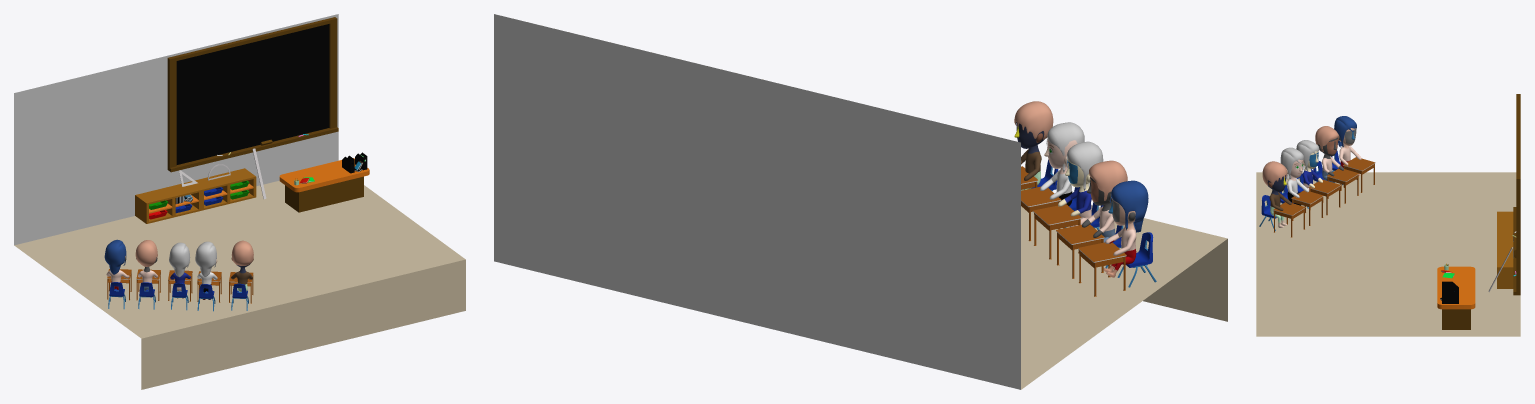
File: Class Room -  Grade 4 - 6 - Updated.fbx
3 renders of one model, left to right at view 1: azimuth 30°, elevation 25°; view 2: azimuth 150°, elevation 25°; view 3: azimuth 270°, elevation 25°, orthographic. The views are drawn at different scales.
Parts seen in each view (by area): view 1: Grade 1 ClassRoom.016; view 2: Grade 1 ClassRoom.016; view 3: Grade 1 ClassRoom.016.
Part boxes in pixels (<box>): Grade 1 ClassRoom.016: <box>14,14,465,389</box>; Grade 1 ClassRoom.016: <box>494,14,1227,389</box>; Grade 1 ClassRoom.016: <box>1256,94,1520,336</box>.
Bounding box in the file's own units: 762 × 457 × 518.
